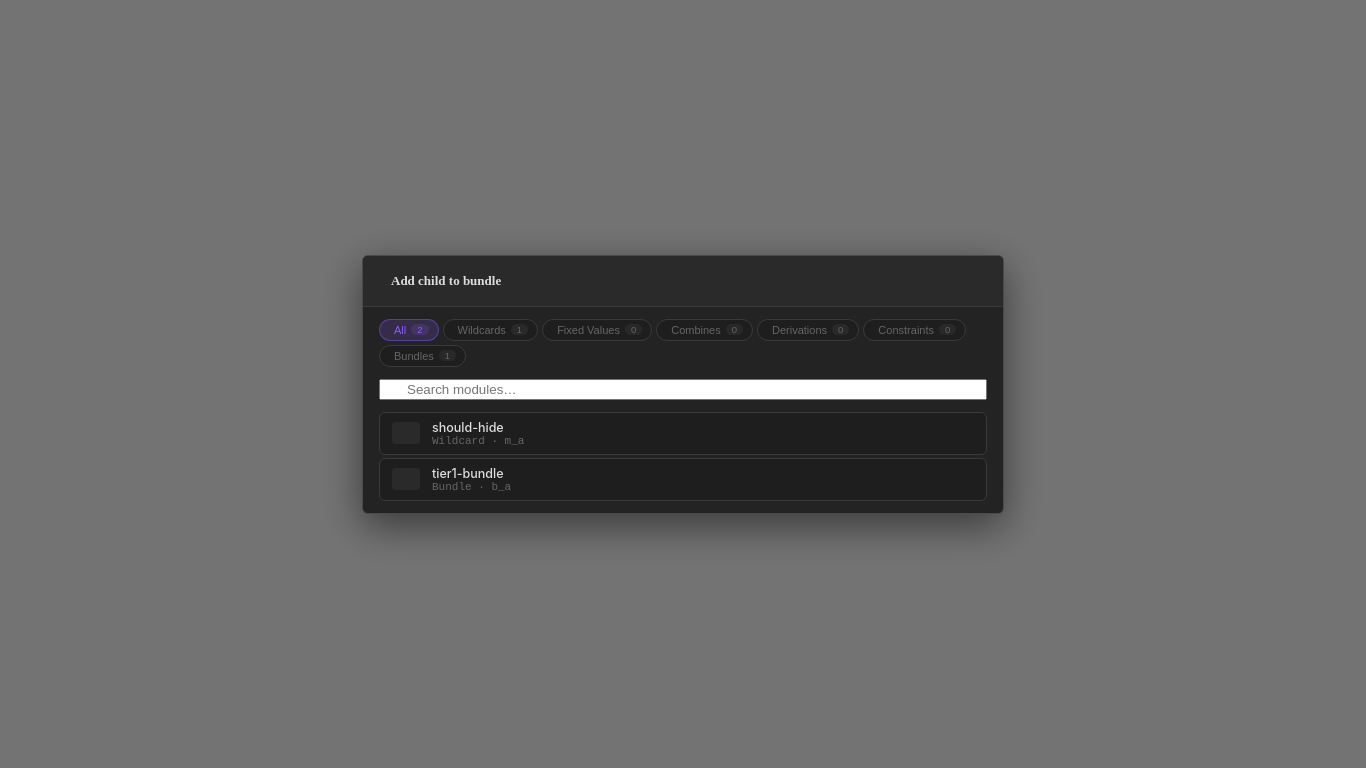
Test case: BundleAddChildModal.vue › Bundles tab hides modules + lists only the bundles
This screenshot has width=1366, height=768.
Click the tab with test id "bundle-add-tab-bundle" at (423, 356), box [379,344,466,366]
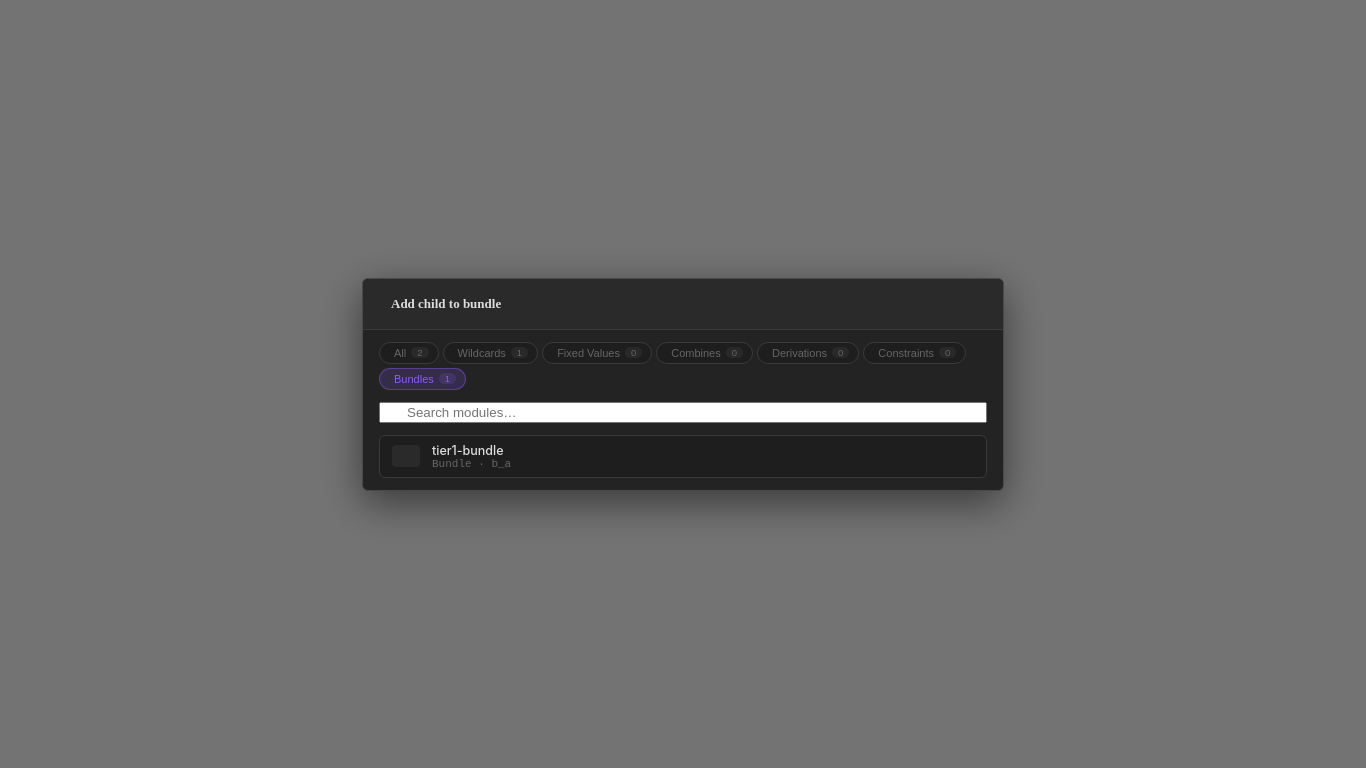
expect the text "tier1-bundle" is shown: met, box [432,442,504,458]
expect the text "should-hide" is gone: met
